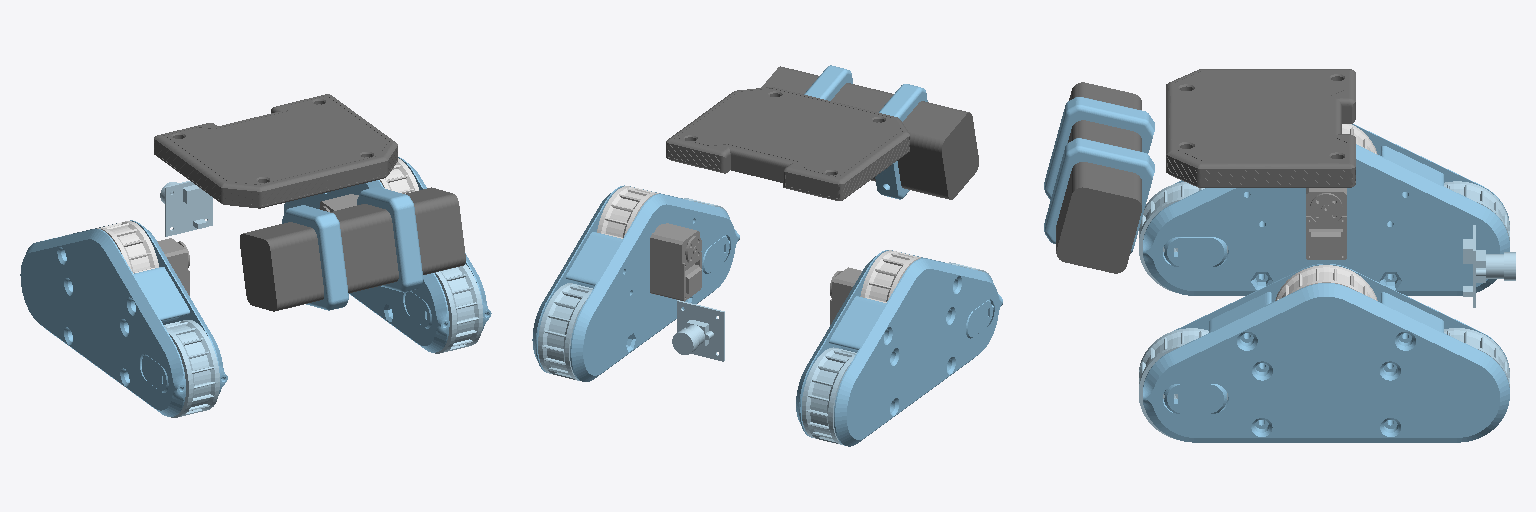
URDF robot description (lerre):
<!--URDF generated by ONSHAPE BY PTC INC, 1.218-->
<robot name="lerre">
    <link name="battery">
        <inertial>
            <mass value="0.000344319" />
            <origin xyz="-1.27123e-17 0.0109881 0.023564" rpy="0 -0 0" />
            <inertia ixx="7.40306e-07" ixy="0" ixz="0" iyy="2.3519e-07" iyz="2.25951e-07" izz="6.14381e-07" />
        </inertial>
        <visual>
            <origin xyz="-0.0001 0.104289 -0.0145374" rpy="0 -0 0" />
            <geometry>
                <mesh filename="package://lerre/meshes/battery.stl" scale="1 1 1" />
            </geometry>
            <material name="0.498039_0.498039_0.498039_0.000000_0.000000">
                <color rgba="0.498039 0.498039 0.498039 1" />
            </material>
        </visual>
    </link>
    <link name="battery_holder_left">
        <inertial>
            <mass value="2.41519e-05" />
            <origin xyz="-2.34294e-09 -0.0320353 -0.0120025" rpy="0 -0 0" />
            <inertia ixx="2.39222e-08" ixy="0" ixz="0" iyy="1.47034e-08" iyz="-1.17194e-09" izz="1.03359e-08" />
        </inertial>
        <visual>
            <origin xyz="0.03 0.107275 -0.0435323" rpy="0 -0 0" />
            <geometry>
                <mesh filename="package://lerre/meshes/battery_holder_left.stl" scale="1 1 1" />
            </geometry>
            <material name="0.615686_0.811765_0.929412_0.000000_0.000000">
                <color rgba="0.615686 0.811765 0.929412 1" />
            </material>
        </visual>
    </link>
    <link name="battery_holder_right">
        <inertial>
            <mass value="2.41519e-05" />
            <origin xyz="-3.18182e-09 -0.0320353 -0.0120025" rpy="0 -0 0" />
            <inertia ixx="2.39222e-08" ixy="0" ixz="0" iyy="1.47034e-08" iyz="-1.17194e-09" izz="1.03359e-08" />
        </inertial>
        <visual>
            <origin xyz="-0.03 0.107275 -0.0435323" rpy="0 -0 0" />
            <geometry>
                <mesh filename="package://lerre/meshes/battery_holder_right.stl" scale="1 1 1" />
            </geometry>
            <material name="0.615686_0.811765_0.929412_0.000000_0.000000">
                <color rgba="0.615686 0.811765 0.929412 1" />
            </material>
        </visual>
    </link>
    <link name="body_base">
        <inertial>
            <mass value="0.000500796" />
            <origin xyz="-0.0857995 0.055403 -0.0211484" rpy="0 -0 0" />
            <inertia ixx="3.02821e-06" ixy="-6.27981e-11" ixz="4.34179e-12" iyy="1.76819e-06" iyz="-2.26686e-08" izz="4.52024e-06" />
        </inertial>
        <visual>
            <origin xyz="-0.0858 0.0484818 0.020684" rpy="0 -0 0" />
            <geometry>
                <mesh filename="package://lerre/meshes/body_base.stl" scale="1 1 1" />
            </geometry>
            <material name="0.498039_0.498039_0.498039_0.000000_0.000000">
                <color rgba="0.498039 0.498039 0.498039 1" />
            </material>
        </visual>
    </link>
    <link name="body_lid">
        <inertial>
            <mass value="0.000141816" />
            <origin xyz="-0.0566628 -0.0458821 0.0104125" rpy="0 -0 0" />
            <inertia ixx="1.75585e-07" ixy="-4.62959e-14" ixz="2.06598e-15" iyy="2.74124e-07" iyz="1.09307e-09" izz="4.45379e-07" />
        </inertial>
        <visual>
            <origin xyz="-0.0566628 -0.0068952 -0.0562" rpy="0 -0 0" />
            <geometry>
                <mesh filename="package://lerre/meshes/body_lid.stl" scale="1 1 1" />
            </geometry>
            <material name="0.498039_0.498039_0.498039_0.000000_0.000000">
                <color rgba="0.498039 0.498039 0.498039 1" />
            </material>
        </visual>
    </link>
    <link name="body_top">
        <inertial>
            <mass value="0.000488315" />
            <origin xyz="-0.000222996 0.105761 0.0259488" rpy="0 -0 0" />
            <inertia ixx="2.64531e-06" ixy="-1.06537e-08" ixz="-8.73726e-10" iyy="1.81032e-06" iyz="2.37706e-07" izz="4.11939e-06" />
        </inertial>
        <visual>
            <origin xyz="0 0.105537 0.007" rpy="0 -0 0" />
            <geometry>
                <mesh filename="package://lerre/meshes/body_top.stl" scale="1 1 1" />
            </geometry>
            <material name="0.498039_0.498039_0.498039_0.000000_0.000000">
                <color rgba="0.498039 0.498039 0.498039 1" />
            </material>
        </visual>
    </link>
    <link name="drive_wheel">
        <inertial>
            <mass value="7.19426e-05" />
            <origin xyz="-0.0122266 2.83764e-17 3.81639e-17" rpy="0 -0 0" />
            <inertia ixx="3.75889e-08" ixy="0" ixz="0" iyy="2.26785e-08" iyz="0" izz="2.26785e-08" />
        </inertial>
        <visual>
            <origin xyz="0.0938 -2.60209e-18 0.01702" rpy="0 -0 0" />
            <geometry>
                <mesh filename="package://lerre/meshes/drive_wheel.stl" scale="1 1 1" />
            </geometry>
            <material name="0.917647_0.917647_0.917647_0.000000_0.000000">
                <color rgba="0.917647 0.917647 0.917647 1" />
            </material>
        </visual>
    </link>
    <link name="drive_wheel_1">
        <inertial>
            <mass value="7.19426e-05" />
            <origin xyz="-0.0122266 2.83764e-17 3.81639e-17" rpy="0 -0 0" />
            <inertia ixx="3.75889e-08" ixy="0" ixz="0" iyy="2.26785e-08" iyz="0" izz="2.26785e-08" />
        </inertial>
        <visual>
            <origin xyz="0.0938 -2.60209e-18 0.01702" rpy="0 -0 0" />
            <geometry>
                <mesh filename="package://lerre/meshes/drive_wheel.stl" scale="1 1 1" />
            </geometry>
            <material name="0.917647_0.917647_0.917647_0.000000_0.000000">
                <color rgba="0.917647 0.917647 0.917647 1" />
            </material>
        </visual>
    </link>
    <link name="idler_1">
        <inertial>
            <mass value="7.08763e-05" />
            <origin xyz="0.0125 -9.77047e-08 1.7228e-08" rpy="0 -0 0" />
            <inertia ixx="3.76483e-08" ixy="-6.07103e-14" ixz="1.07049e-14" iyy="2.25397e-08" iyz="3.84531e-14" izz="2.25399e-08" />
        </inertial>
        <visual>
            <origin xyz="0.1188 0.08 0.0595" rpy="0 -0 0" />
            <geometry>
                <mesh filename="package://lerre/meshes/idler_1.stl" scale="1 1 1" />
            </geometry>
            <material name="0.768627_0.886275_0.952941_0.000000_0.000000">
                <color rgba="0.768627 0.886275 0.952941 1" />
            </material>
        </visual>
    </link>
    <link name="idler_1_1">
        <inertial>
            <mass value="7.08763e-05" />
            <origin xyz="0.0125 -9.77047e-08 1.7228e-08" rpy="0 -0 0" />
            <inertia ixx="3.76483e-08" ixy="-6.07103e-14" ixz="1.07049e-14" iyy="2.25397e-08" iyz="3.84531e-14" izz="2.25399e-08" />
        </inertial>
        <visual>
            <origin xyz="0.1188 0.08 0.0595" rpy="0 -0 0" />
            <geometry>
                <mesh filename="package://lerre/meshes/idler_1.stl" scale="1 1 1" />
            </geometry>
            <material name="0.768627_0.886275_0.952941_0.000000_0.000000">
                <color rgba="0.768627 0.886275 0.952941 1" />
            </material>
        </visual>
    </link>
    <link name="idler_2">
        <inertial>
            <mass value="7.08763e-05" />
            <origin xyz="0.0125 -9.77047e-08 1.7228e-08" rpy="0 -0 0" />
            <inertia ixx="3.76483e-08" ixy="-6.07103e-14" ixz="1.07049e-14" iyy="2.25397e-08" iyz="3.84531e-14" izz="2.25399e-08" />
        </inertial>
        <visual>
            <origin xyz="0.1188 -0.08 0.0595" rpy="0 -0 0" />
            <geometry>
                <mesh filename="package://lerre/meshes/idler_2.stl" scale="1 1 1" />
            </geometry>
            <material name="0.768627_0.886275_0.952941_0.000000_0.000000">
                <color rgba="0.768627 0.886275 0.952941 1" />
            </material>
        </visual>
    </link>
    <link name="idler_2_1">
        <inertial>
            <mass value="7.08763e-05" />
            <origin xyz="0.0125 -9.77047e-08 1.7228e-08" rpy="0 -0 0" />
            <inertia ixx="3.76483e-08" ixy="-6.07103e-14" ixz="1.07049e-14" iyy="2.25397e-08" iyz="3.84531e-14" izz="2.25399e-08" />
        </inertial>
        <visual>
            <origin xyz="0.1188 -0.08 0.0595" rpy="0 -0 0" />
            <geometry>
                <mesh filename="package://lerre/meshes/idler_2.stl" scale="1 1 1" />
            </geometry>
            <material name="0.768627_0.886275_0.952941_0.000000_0.000000">
                <color rgba="0.768627 0.886275 0.952941 1" />
            </material>
        </visual>
    </link>
    <link name="left_tensioner_inner">
        <inertial>
            <mass value="5.39249e-06" />
            <origin xyz="-0.000384459 0.000346749 0.0120002" rpy="0 -0 0" />
            <inertia ixx="6.83495e-10" ixy="-5.90071e-12" ixz="0" iyy="2.3404e-10" iyz="2.34389e-14" izz="5.13915e-10" />
        </inertial>
        <visual>
            <origin xyz="0.0894 0.0775 0.0715" rpy="0 -0 0" />
            <geometry>
                <mesh filename="package://lerre/meshes/left_tensioner_inner.stl" scale="1 1 1" />
            </geometry>
            <material name="0.615686_0.811765_0.929412_0.000000_0.000000">
                <color rgba="0.615686 0.811765 0.929412 1" />
            </material>
        </visual>
    </link>
    <link name="left_tensioner_outter">
        <inertial>
            <mass value="5.39249e-06" />
            <origin xyz="0.000384466 0.000346748 0.0120002" rpy="0 -0 0" />
            <inertia ixx="6.83495e-10" ixy="5.90136e-12" ixz="0" iyy="2.3404e-10" iyz="2.34169e-14" izz="5.13915e-10" />
        </inertial>
        <visual>
            <origin xyz="0.1232 0.0775 0.0715" rpy="0 -0 0" />
            <geometry>
                <mesh filename="package://lerre/meshes/left_tensioner_outter.stl" scale="1 1 1" />
            </geometry>
            <material name="0.615686_0.811765_0.929412_0.000000_0.000000">
                <color rgba="0.615686 0.811765 0.929412 1" />
            </material>
        </visual>
    </link>
    <link name="left_track_inner">
        <inertial>
            <mass value="0.000181335" />
            <origin xyz="-0.00818113 0.0513169 -0.0307116" rpy="0 -0 0" />
            <inertia ixx="5.23009e-07" ixy="-2.22148e-09" ixz="-2.37862e-09" iyy="1.15658e-07" iyz="4.16592e-09" izz="4.19816e-07" />
        </inertial>
        <visual>
            <origin xyz="0.0859 0.0484817 0.0206851" rpy="0 -0 0" />
            <geometry>
                <mesh filename="package://lerre/meshes/left_track_inner.stl" scale="1 1 1" />
            </geometry>
            <material name="0.615686_0.811765_0.929412_0.000000_0.000000">
                <color rgba="0.615686 0.811765 0.929412 1" />
            </material>
        </visual>
    </link>
    <link name="left_track_outer">
        <inertial>
            <mass value="0.000185059" />
            <origin xyz="-0.0124968 -0.0457035 -0.0299412" rpy="0 -0 0" />
            <inertia ixx="5.1876e-07" ixy="2.07861e-09" ixz="3.04111e-09" iyy="1.18226e-07" iyz="4.56217e-09" izz="4.12687e-07" />
        </inertial>
        <visual>
            <origin xyz="0.1063 -0.0484817 0.0206851" rpy="0 -0 0" />
            <geometry>
                <mesh filename="package://lerre/meshes/left_track_outer.stl" scale="1 1 1" />
            </geometry>
            <material name="0.615686_0.811765_0.929412_0.000000_0.000000">
                <color rgba="0.615686 0.811765 0.929412 1" />
            </material>
        </visual>
    </link>
    <link name="part_1">
        <inertial>
            <mass value="8.52467e-06" />
            <origin xyz="0.0142558 0.00633073 -0.0130659" rpy="0 -0 0" />
            <inertia ixx="1.19445e-09" ixy="3.15263e-11" ixz="3.99599e-12" iyy="8.96545e-10" iyz="8.18804e-11" izz="1.0931e-09" />
        </inertial>
        <visual>
            <origin xyz="0.013925 -0.0915612 0.015289" rpy="0 -0 0" />
            <geometry>
                <mesh filename="package://lerre/meshes/Part_1.stl" scale="1 1 1" />
            </geometry>
            <material name="0.768627_0.886275_0.952941_0.000000_0.000000">
                <color rgba="0.768627 0.886275 0.952941 1" />
            </material>
        </visual>
    </link>
    <link name="right_tensioner_inner">
        <inertial>
            <mass value="5.39248e-06" />
            <origin xyz="0.000384458 0.00034676 0.0120002" rpy="0 -0 0" />
            <inertia ixx="6.83494e-10" ixy="5.90063e-12" ixz="0" iyy="2.3404e-10" iyz="2.35527e-14" izz="5.13914e-10" />
        </inertial>
        <visual>
            <origin xyz="-0.0894 0.0775 0.0715" rpy="0 -0 0" />
            <geometry>
                <mesh filename="package://lerre/meshes/right_tensioner_inner.stl" scale="1 1 1" />
            </geometry>
            <material name="0.615686_0.811765_0.929412_0.000000_0.000000">
                <color rgba="0.615686 0.811765 0.929412 1" />
            </material>
        </visual>
    </link>
    <link name="right_tensioner_outter">
        <inertial>
            <mass value="5.39248e-06" />
            <origin xyz="-0.000384467 0.000346759 0.0120002" rpy="0 -0 0" />
            <inertia ixx="6.83494e-10" ixy="-5.90141e-12" ixz="0" iyy="2.3404e-10" iyz="2.3538e-14" izz="5.13914e-10" />
        </inertial>
        <visual>
            <origin xyz="-0.1232 0.0775 0.0715" rpy="0 -0 0" />
            <geometry>
                <mesh filename="package://lerre/meshes/right_tensioner_outter.stl" scale="1 1 1" />
            </geometry>
            <material name="0.615686_0.811765_0.929412_0.000000_0.000000">
                <color rgba="0.615686 0.811765 0.929412 1" />
            </material>
        </visual>
    </link>
    <link name="right_track_inner">
        <inertial>
            <mass value="0.000181335" />
            <origin xyz="-0.0122189 -0.0456465 -0.0307116" rpy="0 -0 0" />
            <inertia ixx="5.23009e-07" ixy="2.22149e-09" ixz="2.37862e-09" iyy="1.15658e-07" iyz="4.16592e-09" izz="4.19816e-07" />
        </inertial>
        <visual>
            <origin xyz="-0.1063 -0.0484817 0.0206851" rpy="0 -0 0" />
            <geometry>
                <mesh filename="package://lerre/meshes/right_track_inner.stl" scale="1 1 1" />
            </geometry>
            <material name="0.615686_0.811765_0.929412_0.000000_0.000000">
                <color rgba="0.615686 0.811765 0.929412 1" />
            </material>
        </visual>
    </link>
    <link name="right_track_outer">
        <inertial>
            <mass value="0.000185059" />
            <origin xyz="0.118797 0.00277817 -0.0506263" rpy="0 -0 0" />
            <inertia ixx="5.1876e-07" ixy="-2.07861e-09" ixz="-3.04111e-09" iyy="1.18226e-07" iyz="4.56217e-09" izz="4.12687e-07" />
        </inertial>
        <visual>
            <origin xyz="0 0 0" rpy="0 -0 0" />
            <geometry>
                <mesh filename="package://lerre/meshes/right_track_outer.stl" scale="1 1 1" />
            </geometry>
            <material name="0.615686_0.811765_0.929412_0.000000_0.000000">
                <color rgba="0.615686 0.811765 0.929412 1" />
            </material>
        </visual>
    </link>
    <link name="root" />
    <link name="servo">
        <inertial>
            <mass value="3.64919e-05" />
            <origin xyz="-0.0162849 0.01015 -0.00420634" rpy="0 -0 0" />
            <inertia ixx="8.04543e-09" ixy="0" ixz="9.17014e-11" iyy="9.61037e-09" iyz="0" izz="5.14707e-09" />
        </inertial>
        <visual>
            <origin xyz="0.059 0.01015 0.02567" rpy="0 -0 0" />
            <geometry>
                <mesh filename="package://lerre/meshes/servo.stl" scale="1 1 1" />
            </geometry>
            <material name="0.647059_0.647059_0.647059_0.000000_0.000000">
                <color rgba="0.647059 0.647059 0.647059 1" />
            </material>
        </visual>
    </link>
    <link name="servo_1">
        <inertial>
            <mass value="3.64919e-05" />
            <origin xyz="-0.0162849 0.01015 -0.00420634" rpy="0 -0 0" />
            <inertia ixx="8.04543e-09" ixy="0" ixz="9.17014e-11" iyy="9.61037e-09" iyz="0" izz="5.14707e-09" />
        </inertial>
        <visual>
            <origin xyz="0.059 0.01015 0.02567" rpy="0 -0 0" />
            <geometry>
                <mesh filename="package://lerre/meshes/servo.stl" scale="1 1 1" />
            </geometry>
            <material name="0.647059_0.647059_0.647059_0.000000_0.000000">
                <color rgba="0.647059 0.647059 0.647059 1" />
            </material>
        </visual>
    </link>
    <joint name="fastened_1" type="fixed">
        <origin xyz="-0.0997243 0.140137 0.00539495" rpy="0 0 -6.12323e-17" />
        <axis xyz="-6.12323e-17 1 0" />
        <parent link="body_base" />
        <child link="part_1" />
    </joint>
    <joint name="fastened_10" type="fixed">
        <origin xyz="-0.0858 -0.0570556 0.013684" rpy="0 -0 0" />
        <axis xyz="0 0 -1" />
        <parent link="body_base" />
        <child link="body_top" />
    </joint>
    <joint name="fastened_11" type="fixed">
        <origin xyz="0.0295 -0.0380005 -0.0384335" rpy="0.436332 0.244346 1.5708" />
        <axis xyz="7.40637e-17 -0.422618 -0.906308" />
        <parent link="battery_holder_right" />
        <child link="battery" />
    </joint>
    <joint name="fastened_12" type="fixed">
        <origin xyz="-0.0169 -0.128482 -0.0509649" rpy="0 -0 0" />
        <axis xyz="0 0 -1" />
        <parent link="left_track_outer" />
        <child link="left_tensioner_outter" />
    </joint>
    <joint name="fastened_13" type="fixed">
        <origin xyz="-0.0035 -0.0315183 -0.0509649" rpy="0 -0 0" />
        <axis xyz="0 0 -1" />
        <parent link="left_track_inner" />
        <child link="left_tensioner_inner" />
    </joint>
    <joint name="fastened_14" type="fixed">
        <origin xyz="-0.0204 0.0969633 6.93889e-18" rpy="0 -0 0" />
        <axis xyz="1 -6.12323e-17 0" />
        <parent link="left_track_inner" />
        <child link="left_track_outer" />
    </joint>
    <joint name="fastened_15" type="fixed">
        <origin xyz="-0.1716 0 0" rpy="0 -0 0" />
        <axis xyz="1 -6.12323e-17 0" />
        <parent link="body_base" />
        <child link="left_track_inner" />
    </joint>
    <joint name="fastened_16" type="fixed">
        <origin xyz="-0.0204 -0.0969633 -6.93889e-18" rpy="0 -0 0" />
        <axis xyz="1 6.12323e-17 -0" />
        <parent link="right_track_inner" />
        <child link="body_base" />
    </joint>
    <joint name="fastened_2" type="fixed">
        <origin xyz="-0.1447 0.0383318 -0.00498602" rpy="0 -0 0" />
        <axis xyz="1 -6.12323e-17 0" />
        <parent link="body_base" />
        <child link="servo" />
    </joint>
    <joint name="fastened_3" type="fixed">
        <origin xyz="-0.0269 0.0586318 -0.00498602" rpy="0 -0 -3.14159" />
        <axis xyz="1 -6.12323e-17 0" />
        <parent link="body_base" />
        <child link="servo_1" />
    </joint>
    <joint name="fastened_4" type="fixed">
        <origin xyz="0.1232 -0.08 -0.07165" rpy="0 -0 6.12323e-17" />
        <axis xyz="0 0 -1" />
        <parent link="right_track_outer" />
        <child link="right_tensioner_outter" />
    </joint>
    <joint name="fastened_5" type="fixed">
        <origin xyz="-0.0169 -0.128482 -0.0509649" rpy="0 0 -6.12323e-17" />
        <axis xyz="0 0 -1" />
        <parent link="right_track_inner" />
        <child link="right_tensioner_inner" />
    </joint>
    <joint name="fastened_6" type="fixed">
        <origin xyz="0.1063 0.0484817 -0.0206851" rpy="0 -0 6.12323e-17" />
        <axis xyz="1 6.12323e-17 -0" />
        <parent link="right_track_outer" />
        <child link="right_track_inner" />
    </joint>
    <joint name="fastened_7" type="fixed">
        <origin xyz="-0.03 -0.00173763 0.0505323" rpy="0 -0 0" />
        <axis xyz="0 0.970296 -0.241922" />
        <parent link="body_top" />
        <child link="battery_holder_right" />
    </joint>
    <joint name="fastened_8" type="fixed">
        <origin xyz="0.03 -0.00173763 0.0505323" rpy="0 -0 0" />
        <axis xyz="0 0.970296 -0.241922" />
        <parent link="body_top" />
        <child link="battery_holder_left" />
    </joint>
    <joint name="fastened_9" type="fixed">
        <origin xyz="0.0566628 0.112433 0.0632" rpy="0 -0 0" />
        <axis xyz="0 0 -1" />
        <parent link="body_top" />
        <child link="body_lid" />
    </joint>
    <joint name="hanging_node_to_root_joint" type="fixed">
        <origin xyz="-0.0173144 0.0206101 0.0227487" rpy="0 0 -6.12323e-17" />
        <axis xyz="0 0 1" />
        <parent link="root" />
        <child link="right_track_outer" />
    </joint>
    <joint name="revolute_1" type="continuous">
        <origin xyz="-0.0348 0.01015 0.00865" rpy="3.14159 -0 -1.22465e-16" />
        <axis xyz="1 -6.12323e-17 0" />
        <parent link="servo_1" />
        <child link="drive_wheel" />
    </joint>
    <joint name="revolute_2" type="continuous">
        <origin xyz="-0.0125 0.0315183 -0.0388149" rpy="0 -0 6.12323e-17" />
        <axis xyz="-1 6.12323e-17 0" />
        <parent link="right_track_inner" />
        <child link="idler_1_1" />
    </joint>
    <joint name="revolute_3" type="continuous">
        <origin xyz="0.0044 -0.0025 0.012" rpy="0 -0 1.22465e-16" />
        <axis xyz="-1 6.12323e-17 0" />
        <parent link="right_tensioner_inner" />
        <child link="idler_2" />
    </joint>
    <joint name="revolute_4" type="continuous">
        <origin xyz="-0.0348 0.01015 0.00865" rpy="0 -0 0" />
        <axis xyz="1 -6.12323e-17 0" />
        <parent link="servo" />
        <child link="drive_wheel_1" />
    </joint>
    <joint name="revolute_5" type="continuous">
        <origin xyz="-0.0125 0.0315183 -0.0388149" rpy="0 -0 0" />
        <axis xyz="-1 6.12323e-17 0" />
        <parent link="left_track_outer" />
        <child link="idler_1" />
    </joint>
    <joint name="revolute_6" type="continuous">
        <origin xyz="0.0044 -0.0025 0.012" rpy="0 -0 0" />
        <axis xyz="-1 6.12323e-17 0" />
        <parent link="left_tensioner_outter" />
        <child link="idler_2_1" />
    </joint>
</robot>

--- Facts derived from the render (not from the file) ---
The picture shows the robot from 3 angles, left to right: view 1: azimuth 30°, elevation 25°; view 2: azimuth 150°, elevation 25°; view 3: azimuth 270°, elevation 25°; orthographic projection.
Robot: lerre — 24 links, 23 joints (6 continuous, 17 fixed); root link root; default pose: all joints at 0.
Visible links, largest first — view 1: body_lid, left_track_outer, battery, right_track_inner, idler_2_1, battery_holder_right, battery_holder_left, idler_2, left_track_inner, part_1, drive_wheel_1, servo (+4 smaller); view 2: body_lid, left_track_outer, right_track_inner, battery, servo_1, idler_1_1, idler_1, part_1, left_track_inner, right_track_outer, battery_holder_right, drive_wheel (+5 smaller); view 3: right_track_outer, left_track_inner, body_lid, battery, battery_holder_left, right_track_inner, battery_holder_right, servo, part_1, left_tensioner_inner, right_tensioner_outter, drive_wheel (+5 smaller).
Boxes of the visible links, x1=… form: body_lid: x1=154, y1=94, x2=397, y2=208; left_track_outer: x1=20, y1=229, x2=185, y2=416; battery: x1=240, y1=187, x2=465, y2=311; right_track_inner: x1=284, y1=180, x2=449, y2=352; idler_2_1: x1=164, y1=320, x2=219, y2=417; battery_holder_right: x1=282, y1=205, x2=348, y2=310; battery_holder_left: x1=357, y1=187, x2=423, y2=292; idler_2: x1=435, y1=264, x2=483, y2=353; left_track_inner: x1=73, y1=220, x2=227, y2=393; part_1: x1=160, y1=181, x2=212, y2=236; drive_wheel_1: x1=97, y1=221, x2=158, y2=273; servo: x1=157, y1=238, x2=189, y2=295; body_lid: x1=666, y1=87, x2=909, y2=200; left_track_outer: x1=834, y1=258, x2=1002, y2=446; right_track_inner: x1=570, y1=194, x2=739, y2=381; battery: x1=761, y1=66, x2=978, y2=199; servo_1: x1=650, y1=223, x2=701, y2=301; idler_1_1: x1=538, y1=283, x2=592, y2=380; idler_1: x1=802, y1=347, x2=856, y2=444; part_1: x1=672, y1=300, x2=724, y2=361; left_track_inner: x1=796, y1=250, x2=944, y2=437; right_track_outer: x1=532, y1=185, x2=682, y2=372; battery_holder_right: x1=875, y1=84, x2=927, y2=199; drive_wheel: x1=597, y1=186, x2=658, y2=238; right_track_outer: x1=1143, y1=283, x2=1509, y2=442; left_track_inner: x1=1143, y1=144, x2=1509, y2=295; body_lid: x1=1166, y1=69, x2=1355, y2=187; battery: x1=1056, y1=82, x2=1141, y2=273; battery_holder_left: x1=1044, y1=138, x2=1154, y2=253; right_track_inner: x1=1174, y1=264, x2=1509, y2=368; battery_holder_right: x1=1044, y1=97, x2=1154, y2=200; servo: x1=1306, y1=188, x2=1346, y2=259; part_1: x1=1463, y1=225, x2=1515, y2=307; left_tensioner_inner: x1=1164, y1=237, x2=1226, y2=266; right_tensioner_outter: x1=1164, y1=384, x2=1226, y2=413; drive_wheel: x1=1275, y1=265, x2=1377, y2=300.
Bounding box of the posed robot: 0.2532 × 0.2884 × 0.1641 m (x, y, z).
Meshes: 19 distinct files referenced, 21 mesh visuals loaded (17 ASCII STL); not drawn: 2 (reference not matched to a file when rendering).
